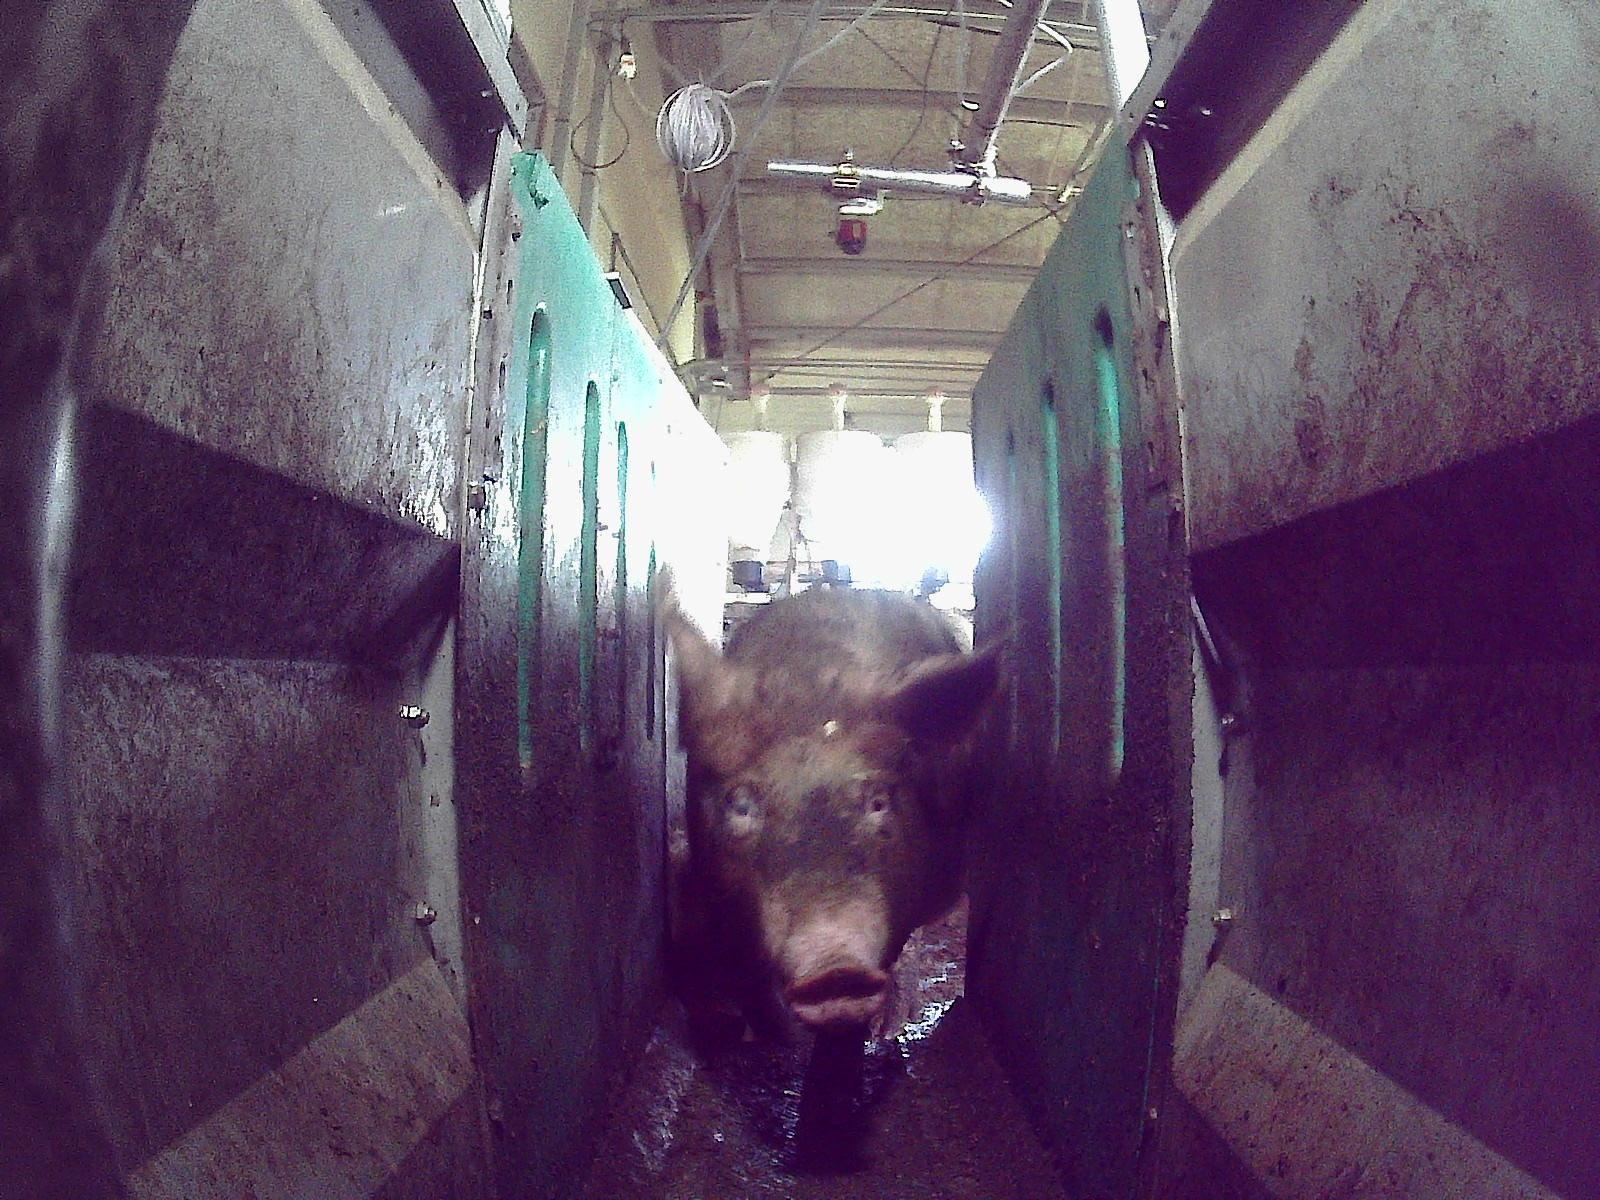Face: (695, 696, 933, 1020)
